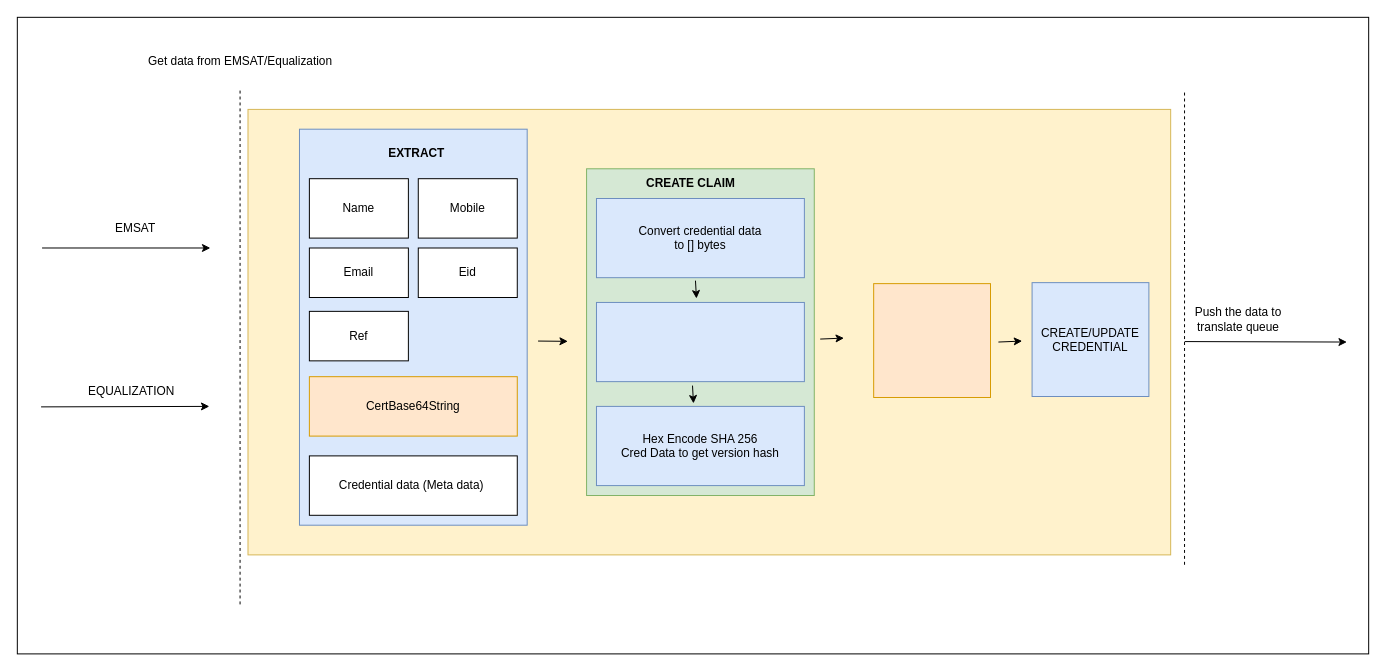
Some shapes in this 1386 by 671 pixel diagram are drawn without their labels. The shapes that lost their labels are listed below. From the top down, each one's centre as x and y in pixels, then its label:
[699,341]: SHA 256 Credential data [] bytes
[931,340]: Upload Cert pdf to object store
